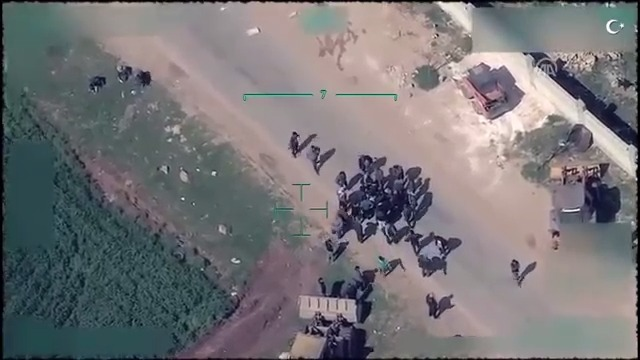insan: (303, 141, 327, 175), (283, 127, 304, 159)
